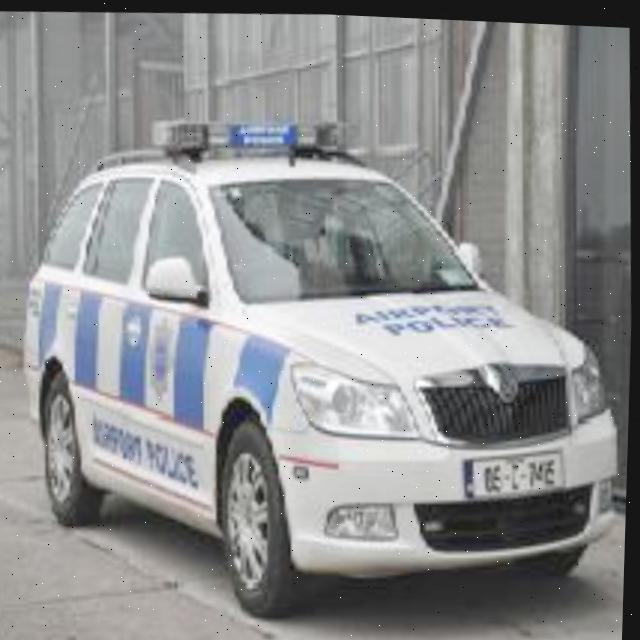emergency: (0, 74, 638, 619)
